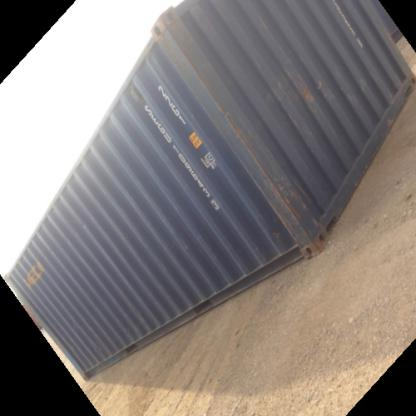Damage: (215, 100, 269, 172), (280, 69, 342, 118), (272, 178, 312, 245), (160, 30, 210, 73), (64, 213, 90, 238)
